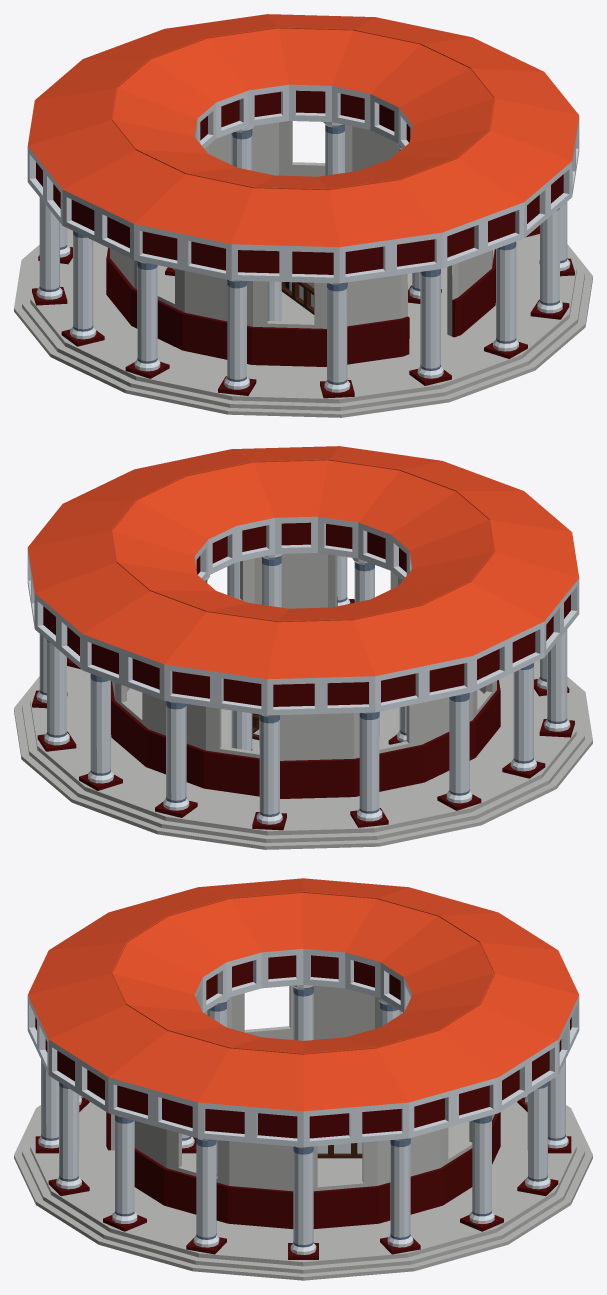
File: Catacombs entrance.fbx
3 views of the same model, one above another, from view 1: azimuth 30°, elevation 25°; view 2: azimuth 150°, elevation 25°; view 3: azimuth 270°, elevation 25° (orthographic).
Parts seen in each view (by area): view 1: Upper Roof, Foundations, Lower Roof, Walls, Pillars; view 2: Upper Roof, Foundations, Lower Roof, Walls, Pillars; view 3: Upper Roof, Foundations, Lower Roof, Walls, Pillars.
Part boxes in pixels (box(x1,y1,x2,y2)): Upper Roof: box(27, 14, 579, 247); Foundations: box(14, 228, 592, 417); Lower Roof: box(27, 84, 579, 283); Walls: box(106, 121, 495, 366); Pillars: box(32, 122, 574, 398); Upper Roof: box(27, 446, 579, 679); Foundations: box(14, 660, 592, 849); Lower Roof: box(27, 516, 579, 715); Walls: box(111, 553, 500, 798); Pillars: box(32, 554, 574, 830); Upper Roof: box(28, 878, 578, 1111); Foundations: box(14, 1095, 592, 1280); Lower Roof: box(27, 949, 579, 1147); Walls: box(106, 985, 500, 1228); Pillars: box(35, 985, 571, 1259).
Size of the model in its own units: 1859 by 832 by 1859.
